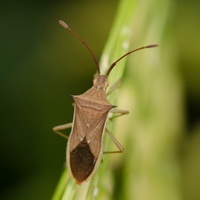insect: (53, 20, 158, 183)
